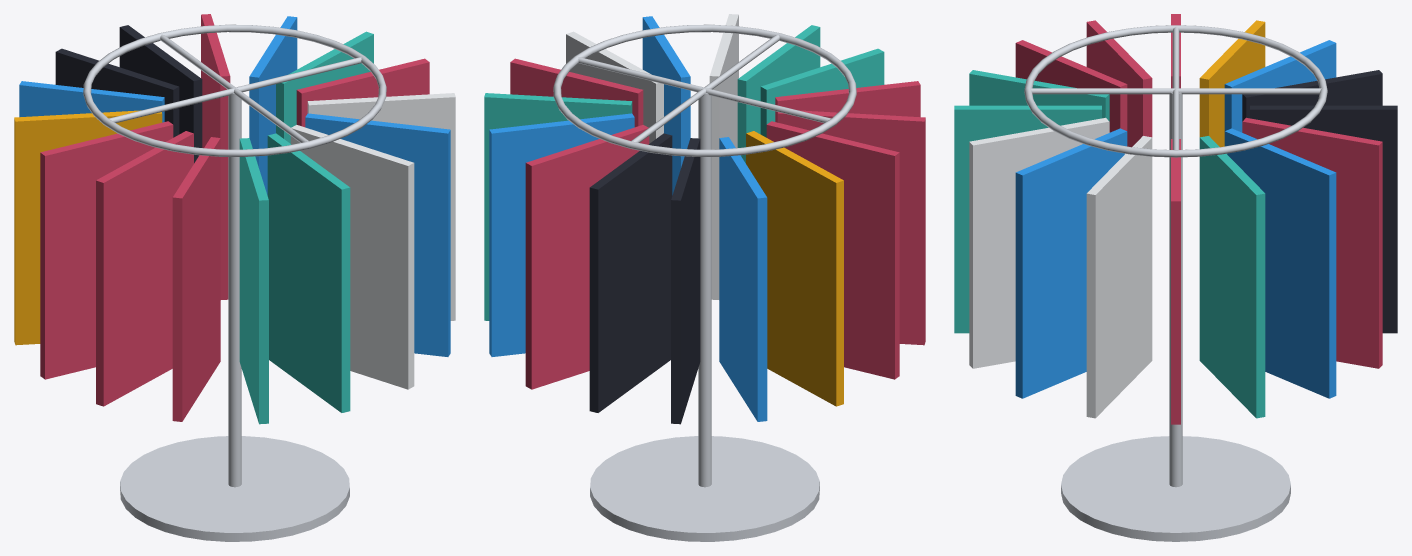
File: mal-008.glb
3 views of the same model, side by side, from view 1: azimuth 30°, elevation 25°; view 2: azimuth 150°, elevation 25°; view 3: azimuth 270°, elevation 25° (orthographic).
Visible parts, largest first — view 1: brand_fashion, chrome, accent_teal, white, plastic_blue, accent_amber, plastic_dark; view 2: brand_fashion, chrome, plastic_dark, plastic_blue, accent_amber, accent_teal, white; view 3: plastic_blue, chrome, white, accent_teal, brand_fashion, plastic_dark, accent_amber.
Boxes of the visible parts, box(x1,y1,x2,y2) form: brand_fashion: box(40, 14, 429, 421); chrome: box(83, 24, 386, 541); accent_teal: box(239, 31, 373, 424); white: box(290, 93, 455, 389); plastic_blue: box(19, 16, 450, 356); accent_amber: box(14, 110, 162, 345); plastic_dark: box(55, 25, 202, 163); brand_fashion: box(510, 58, 925, 389); chrome: box(553, 24, 856, 541); plastic_dark: box(589, 133, 700, 424); plastic_blue: box(489, 16, 767, 421); accent_amber: box(746, 131, 843, 406); accent_teal: box(484, 25, 884, 320); white: box(566, 14, 738, 299); plastic_blue: box(1015, 40, 1336, 398); chrome: box(1024, 25, 1327, 541); white: box(969, 117, 1152, 418); accent_teal: box(954, 70, 1265, 418); brand_fashion: box(1015, 14, 1382, 424); plastic_dark: box(1242, 70, 1397, 333); accent_amber: box(1199, 20, 1265, 147).
Bounding box in the file's own units: 1.35 × 1.36 × 1.35.
